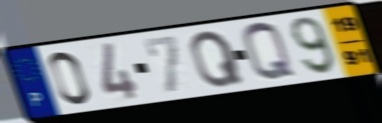0: (47, 49, 91, 106)
4: (99, 39, 141, 103)
7: (141, 34, 182, 96)
9: (287, 15, 338, 76)
Q: (240, 20, 300, 84), (188, 28, 246, 90)
